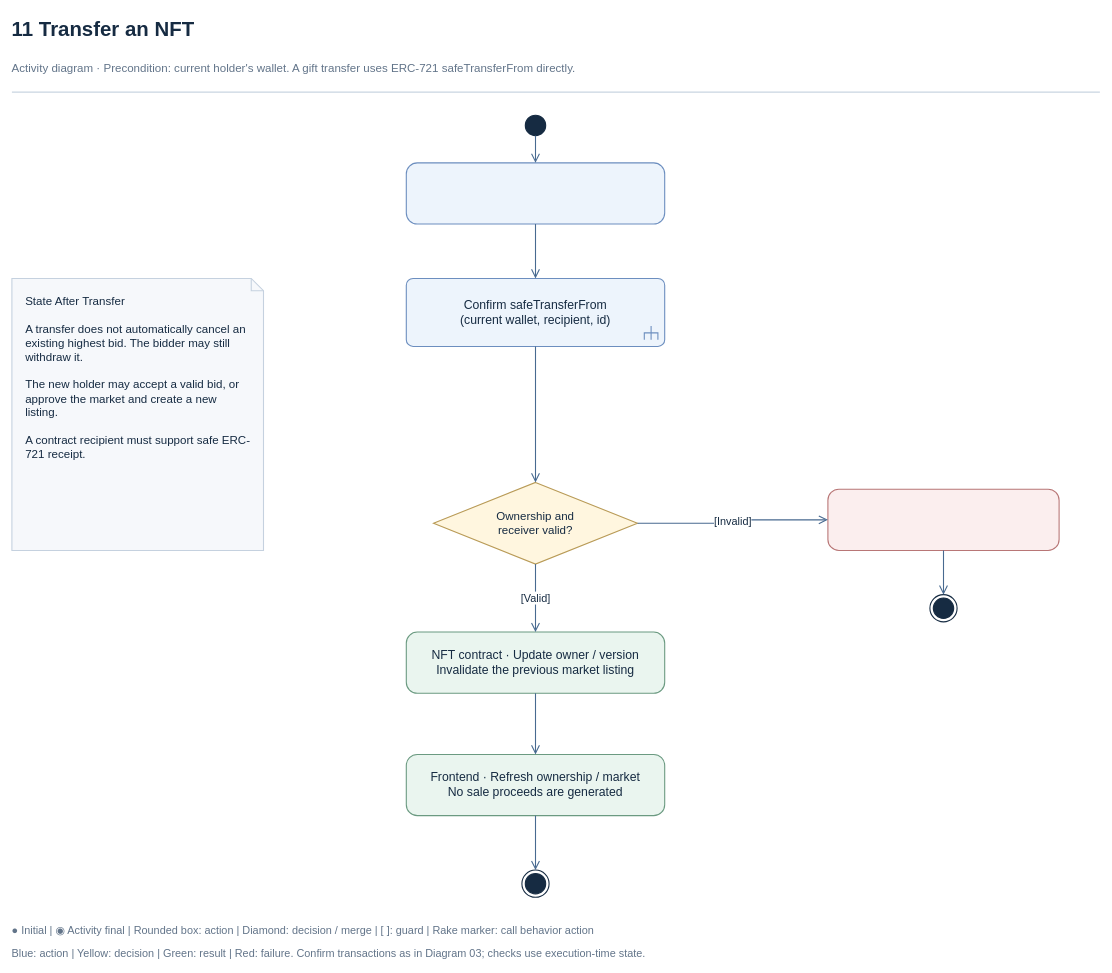
Image size: 1112x973. Some labels were removed from this diagram. The box of each missing label's shape, as (x1, y1, x2, y2) in pixels:
Holder · Click Transfer in NFT details Enter a valid, nonzero recipient address: (405, 162, 665, 224)
Invalid address, ownership, or receiver Revert; original ownership remains: (827, 488, 1059, 551)
